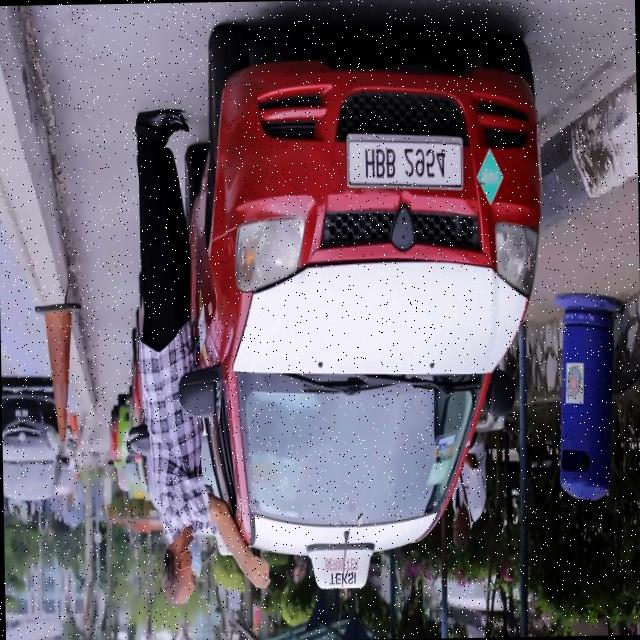License_Plate: (346, 127, 464, 197), (10, 404, 39, 429)
car: (182, 33, 551, 582)
